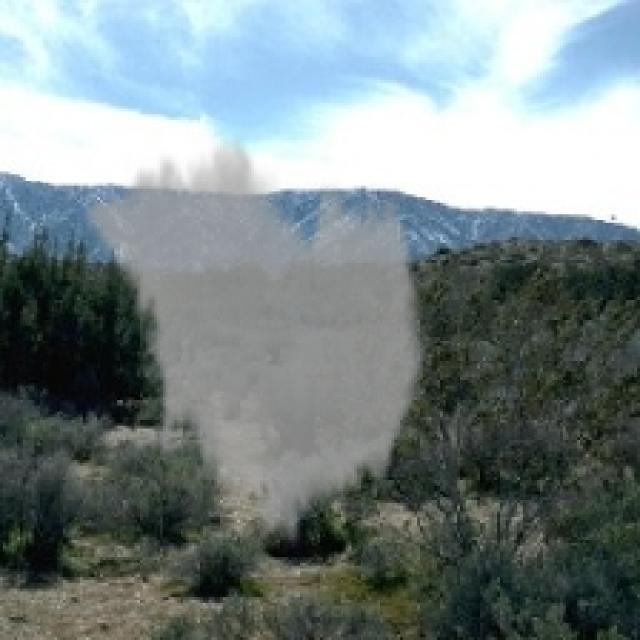smoke: (83, 126, 428, 551)
